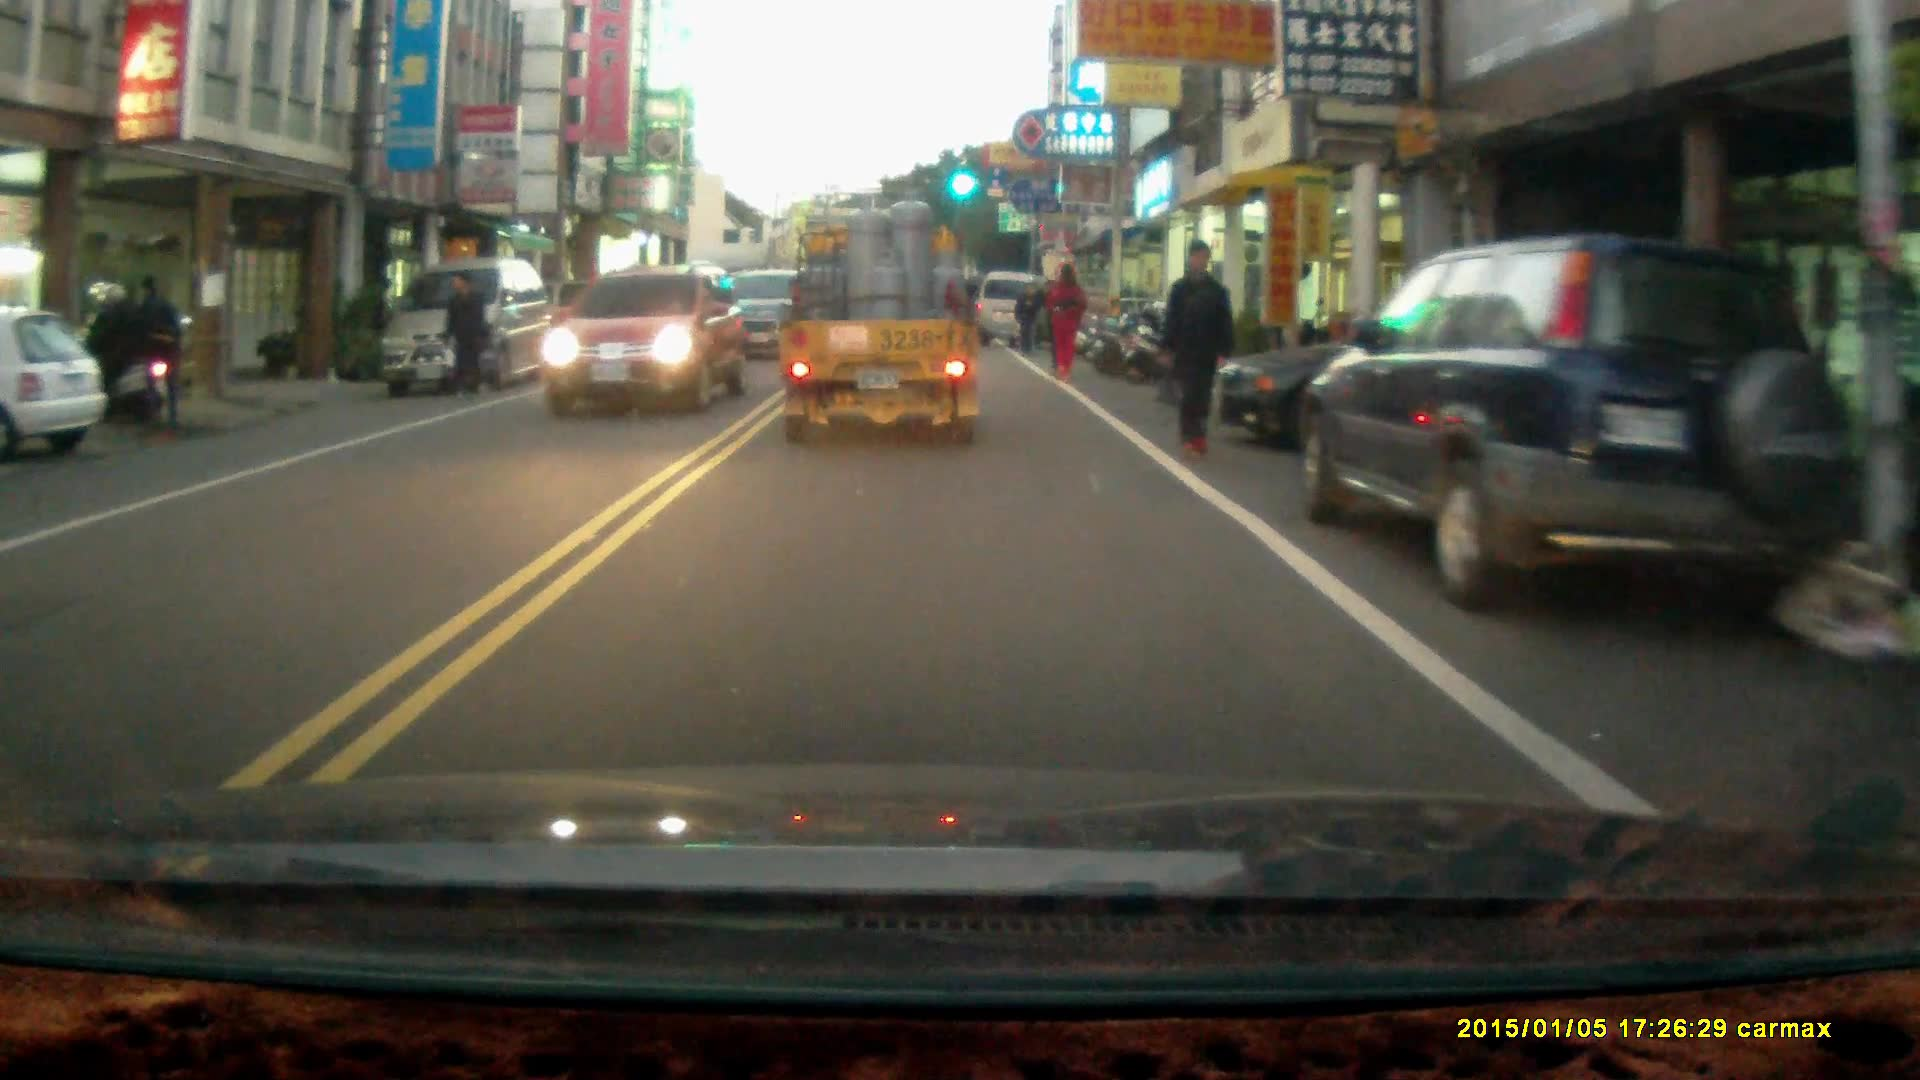pedestrian: (1157, 239, 1234, 460), (126, 276, 182, 437), (437, 267, 490, 406), (1045, 259, 1083, 380), (1012, 282, 1037, 344)
rider: (62, 279, 171, 430)
vehicle: (1294, 229, 1877, 623), (774, 199, 983, 466), (544, 264, 751, 416), (1, 321, 112, 465), (984, 270, 1052, 352)
